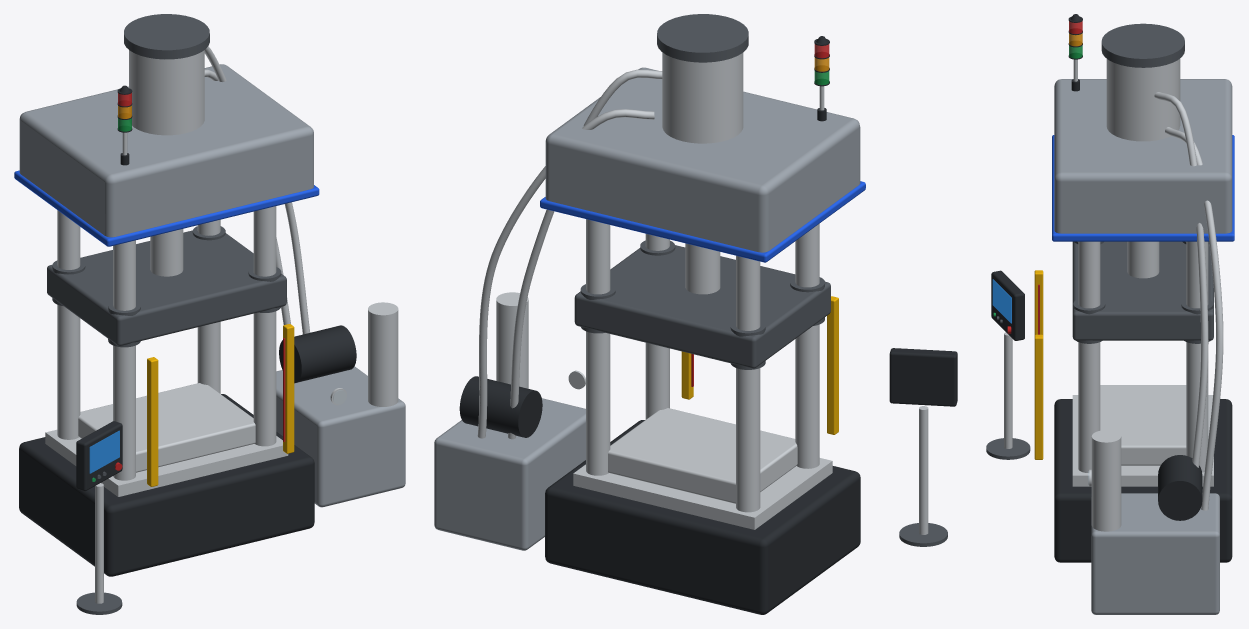
The model's file is hydraulic-press.glb.
The picture shows the model from 3 angles, left to right: view 1: azimuth 30°, elevation 25°; view 2: azimuth 150°, elevation 25°; view 3: azimuth 270°, elevation 25°; orthographic projection. The views are drawn at different scales.
Parts seen in each view (by area): view 1: hydraulic_press_paint_grey, hydraulic_press_steel, hydraulic_press_graphite, hydraulic_press_dark_steel, hydraulic_press_safety_yellow, hydraulic_press_accent_blue, hydraulic_press_screen; view 2: hydraulic_press_steel, hydraulic_press_paint_grey, hydraulic_press_graphite, hydraulic_press_dark_steel, hydraulic_press_accent_blue, hydraulic_press_safety_yellow; view 3: hydraulic_press_paint_grey, hydraulic_press_steel, hydraulic_press_dark_steel, hydraulic_press_graphite, hydraulic_press_accent_blue, hydraulic_press_safety_yellow, hydraulic_press_screen.
Boxes of the visible parts, x1,y1,x2,y2 form: hydraulic_press_paint_grey: (19, 64, 405, 507); hydraulic_press_steel: (45, 46, 398, 603); hydraulic_press_graphite: (19, 85, 356, 576); hydraulic_press_dark_steel: (47, 14, 286, 614); hydraulic_press_safety_yellow: (147, 324, 294, 486); hydraulic_press_accent_blue: (14, 170, 319, 246); hydraulic_press_screen: (89, 430, 119, 473); hydraulic_press_steel: (477, 52, 928, 534); hydraulic_press_paint_grey: (434, 67, 860, 550); hydraulic_press_graphite: (459, 36, 957, 614); hydraulic_press_dark_steel: (574, 14, 947, 546); hydraulic_press_accent_blue: (540, 181, 865, 262); hydraulic_press_safety_yellow: (681, 296, 838, 434); hydraulic_press_paint_grey: (1054, 79, 1232, 614); hydraulic_press_steel: (1004, 58, 1223, 531); hydraulic_press_dark_steel: (986, 23, 1213, 459); hydraulic_press_graphite: (991, 14, 1232, 562); hydraulic_press_accent_blue: (1052, 135, 1234, 241); hydraulic_press_safety_yellow: (1034, 270, 1043, 459); hydraulic_press_screen: (992, 279, 1011, 323).
Bounding box in the file's own units: 3.44 × 4.26 × 2.03.
